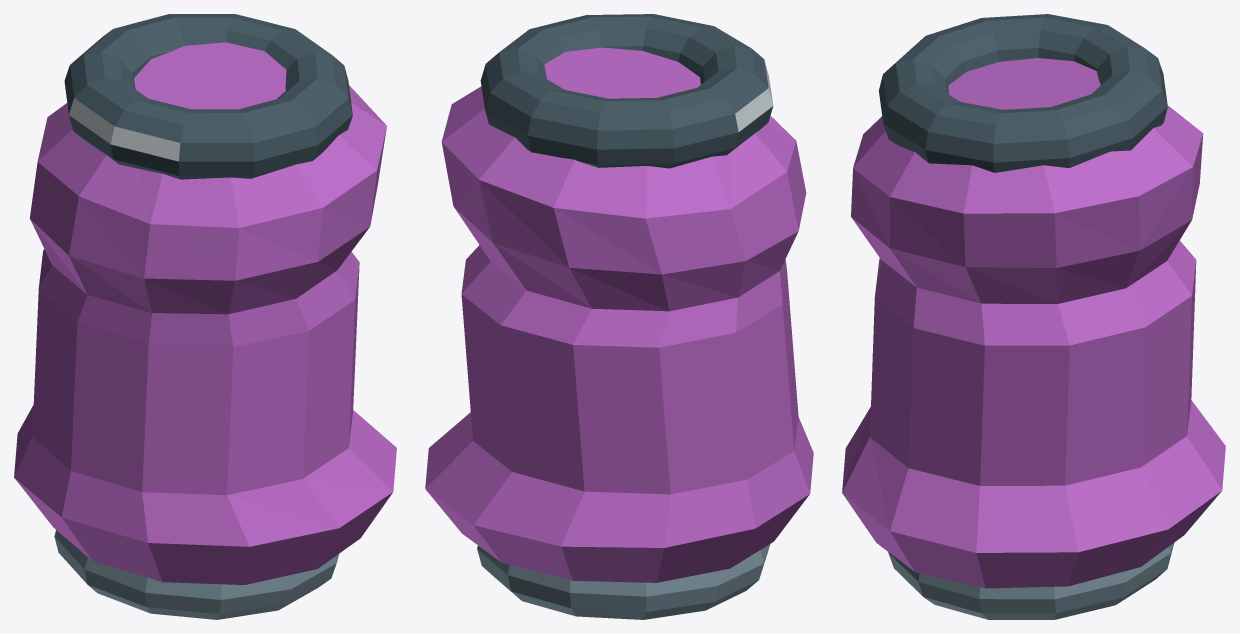
File: tank.FBX
3 renders of one model, left to right at view 1: azimuth 30°, elevation 25°; view 2: azimuth 150°, elevation 25°; view 3: azimuth 270°, elevation 25°, orthographic.
Visible parts, largest first — view 1: mesh_1021027848; view 2: mesh_1021027848; view 3: mesh_1021027848.
Part boxes in pixels (x1,y1,x2,y2): mesh_1021027848: (14,14,396,619); mesh_1021027848: (425,14,813,619); mesh_1021027848: (842,14,1225,619).
Size of the model in its own units: 131 by 194 by 131.
